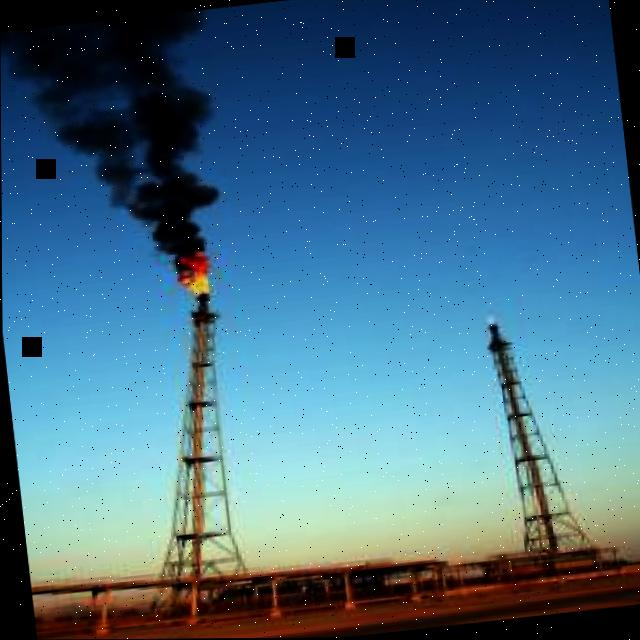fire: (175, 251, 209, 294)
smoke: (0, 10, 220, 264)
